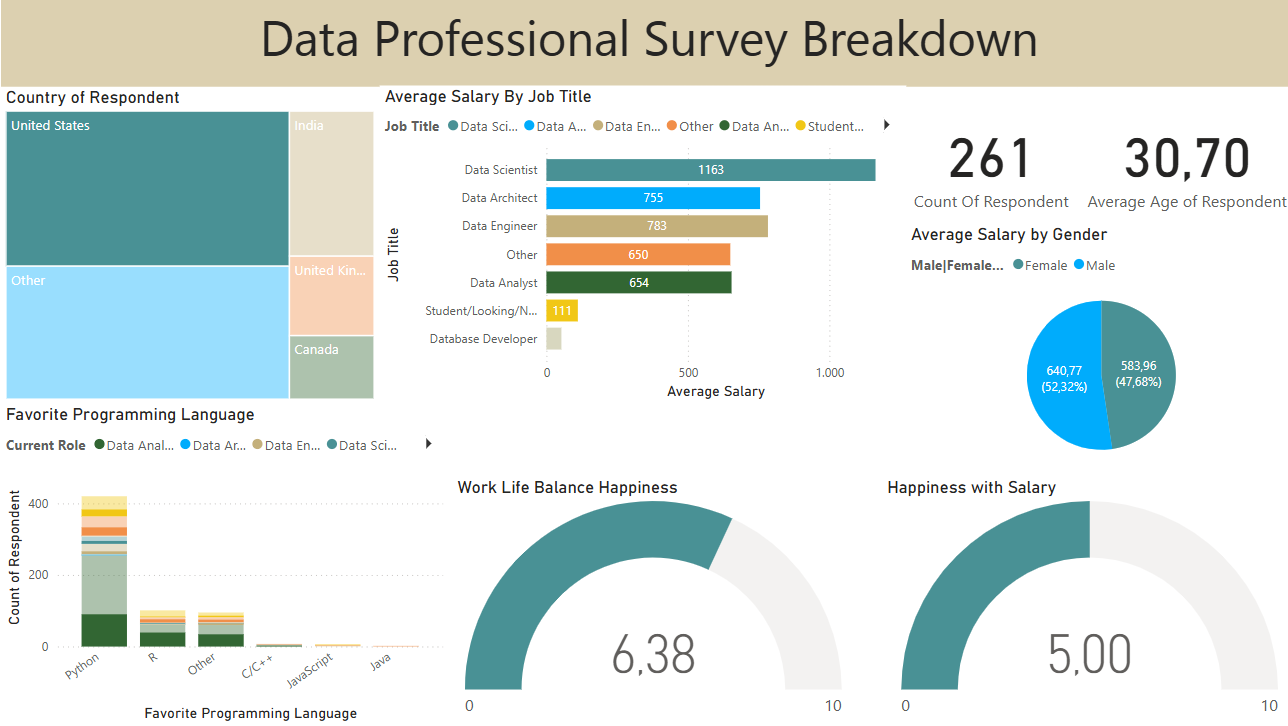

The dashboard page shown, as its layout file describes it:
{"tool":"powerbi","page":{"name":"Page 1","canvas":[1280,720],"ordinal":0},"visuals":[{"type":"textbox","box":[0,0,1280.3,87.9],"z":0},{"type":"card","fields":{"Values":["Count(Data Professional Survey.Unique ID)"]},"box":[894,87.9,168.8,149.2],"z":1000},{"type":"card","fields":{"Values":["Avg(Data Professional Survey.Q10 - Current Age)"]},"box":[1062.7,87.9,217.6,149.2],"z":2000},{"type":"barChart","title":"Average Salary By Job Title ","fields":{"Category":["Data Professional Survey.Q1 - Which Title Best Fits your Current Role?.1"],"Y":["Avg(Data Professional Survey.Average Salary)"],"Series":["Data Professional Survey.Q1 - Which Title Best Fits your Current Role?.1"]},"box":[373.8,86.5,520.2,315.2],"z":3000},{"type":"columnChart","title":"Favorite Programming Language","fields":{"Category":["Data Professional Survey.Q5 - Favorite Programming Language.1"],"Y":["CountNonNull(Data Professional Survey.Unique ID)"],"Series":["Data Professional Survey.Q1 - Which Title Best Fits your Current Role?.1"]},"box":[0,401.7,442.1,318],"z":4000},{"type":"treemap","title":"Country of Respondent","fields":{"Group":["Data Professional Survey.Q11 - Which Country do you live in?.1"],"Values":["CountNonNull(Data Professional Survey.Q11 - Which Country do you live in?.1)"]},"box":[0,87.9,373.8,313.8],"z":5000},{"type":"gauge","title":"Happiness with Salary","fields":{"Y":["Avg(Data Professional Survey.Q6 - How Happy are you in your Current Position with the following? (Salary))"],"MinValue":["Min(Data Professional Survey.Q6 - How Happy are you in your Current Position with the following? (Salary))"],"MaxValue":["Max(Data Professional Survey.Q6 - How Happy are you in your Current Position with the following? (Salary))"]},"box":[870.3,472.8,410,246.9],"z":6000},{"type":"gauge","title":"Work Life Balance Happiness","fields":{"Y":["Avg(Data Professional Survey.Q6 - How Happy are you in your Current Position with the following? (Work/Life Balance))"],"MinValue":["Min(Data Professional Survey.Q6 - How Happy are you in your Current Position with the following? (Work/Life Balance))1"],"MaxValue":["Max(Data Professional Survey.Q6 - How Happy are you in your Current Position with the following? (Work/Life Balance))2"]},"box":[446.3,472.8,397.5,246.9],"z":7000},{"type":"pieChart","title":"Average Salary by Gender","fields":{"Category":["Data Professional Survey.Q9 - Male/Female?"],"Y":["Avg(Data Professional Survey.Average Salary)"]},"box":[894,223.1,386.3,249.6],"z":8000}]}

Visuals, with their boxes in screenshot pixels (x1, y1, x2, y2), scaled from the page's 1280x720 canvas onto the 1288x726 screenshot:
textbox: bbox(0, 0, 1287, 89)
card - Count(Data Professional Survey.Unique ID): bbox(900, 89, 1069, 239)
card - Avg(Data Professional Survey.Q10 - Current Age): bbox(1069, 89, 1287, 239)
"Average Salary By Job Title " barChart: bbox(376, 87, 900, 405)
"Favorite Programming Language" columnChart: bbox(0, 405, 445, 725)
"Country of Respondent" treemap: bbox(0, 89, 376, 405)
"Happiness with Salary" gauge: bbox(876, 477, 1287, 725)
"Work Life Balance Happiness" gauge: bbox(449, 477, 849, 725)
"Average Salary by Gender" pieChart: bbox(900, 225, 1287, 477)
